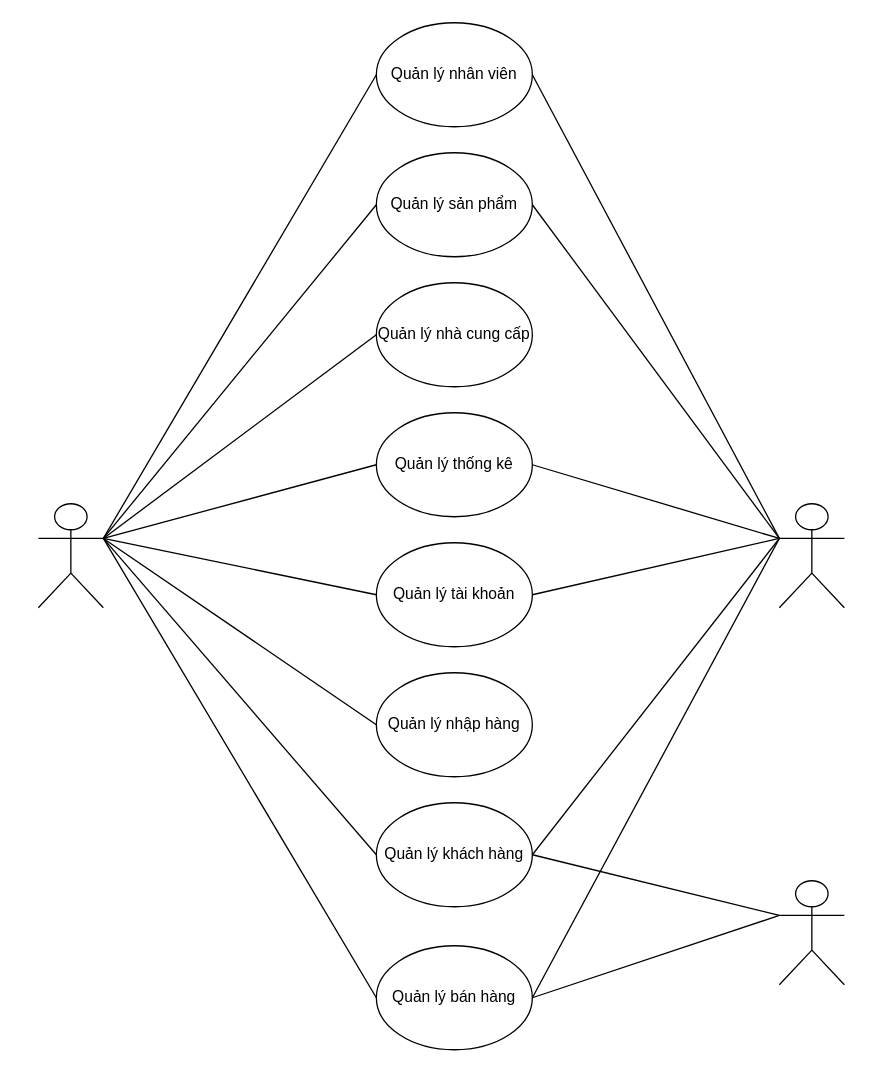
The diagram is 870 pixels wide and 1073 high, and some of its shapes have lost their labels. The shapes that lost their labels are listed below. From the top down, each one's box as (x1, y1, x2, y2) in pixels, then its label:
(37, 502, 103, 608): Chủ của hàng
(778, 502, 844, 608): Quản lý
(778, 879, 844, 985): Nhân viên
